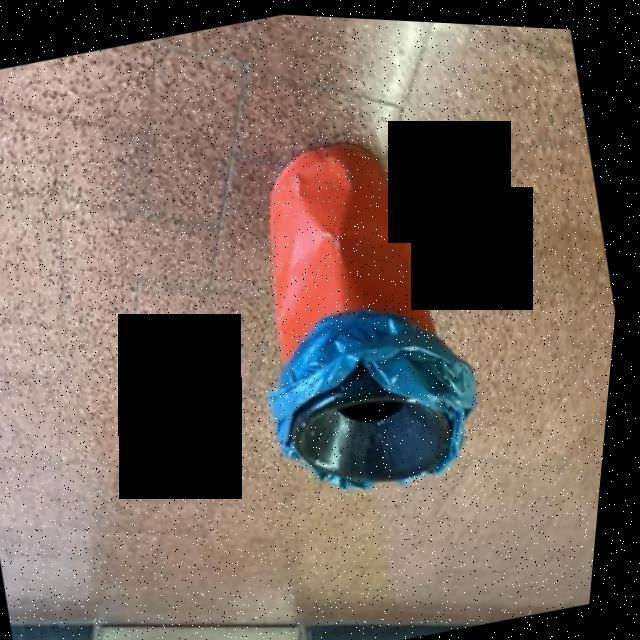bin: (152, 45, 580, 570)
